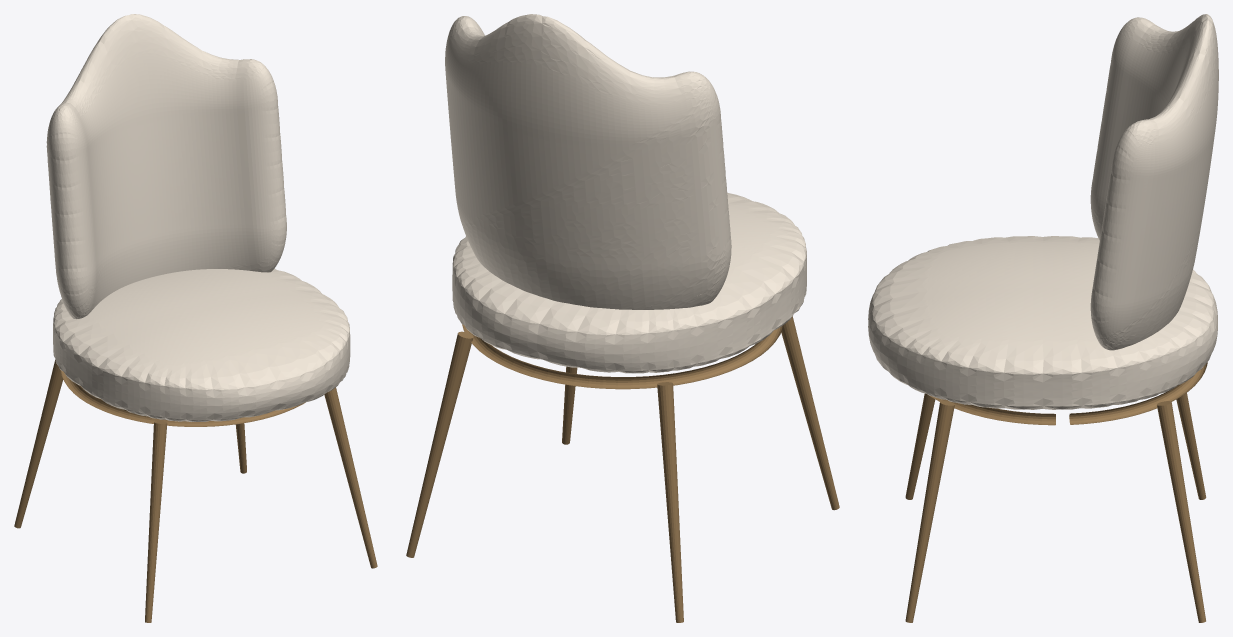
The model's file is haven.glb.
3 renders of one model, left to right at view 1: azimuth 30°, elevation 25°; view 2: azimuth 150°, elevation 25°; view 3: azimuth 270°, elevation 25°, orthographic. The views are drawn at different scales.
Parts seen in each view (by area): view 1: back, seat, leg0, leg1, leg2, apron; view 2: back, seat, apron, leg2, leg3, leg0, leg1; view 3: seat, back, apron, leg1, leg3, leg2, leg0.
Part boxes in pixels (<box>): back: <box>46,14,286,318</box>; seat: <box>53,268,350,421</box>; leg0: <box>145,421,167,622</box>; leg1: <box>324,387,377,568</box>; leg2: <box>14,359,63,528</box>; apron: <box>60,370,305,426</box>; back: <box>445,14,731,309</box>; seat: <box>452,193,806,373</box>; apron: <box>462,324,783,389</box>; leg2: <box>657,382,683,622</box>; leg3: <box>406,331,473,557</box>; leg0: <box>781,316,839,510</box>; leg1: <box>562,366,577,444</box>; seat: <box>868,236,1217,409</box>; back: <box>1090,14,1218,350</box>; apron: <box>927,362,1207,425</box>; leg1: <box>905,401,954,622</box>; leg3: <box>1157,401,1205,622</box>; leg2: <box>1176,393,1206,499</box>; leg0: <box>905,393,935,499</box>.
Bounding box in the file's own units: 0.5016 × 0.9389 × 0.5501.
